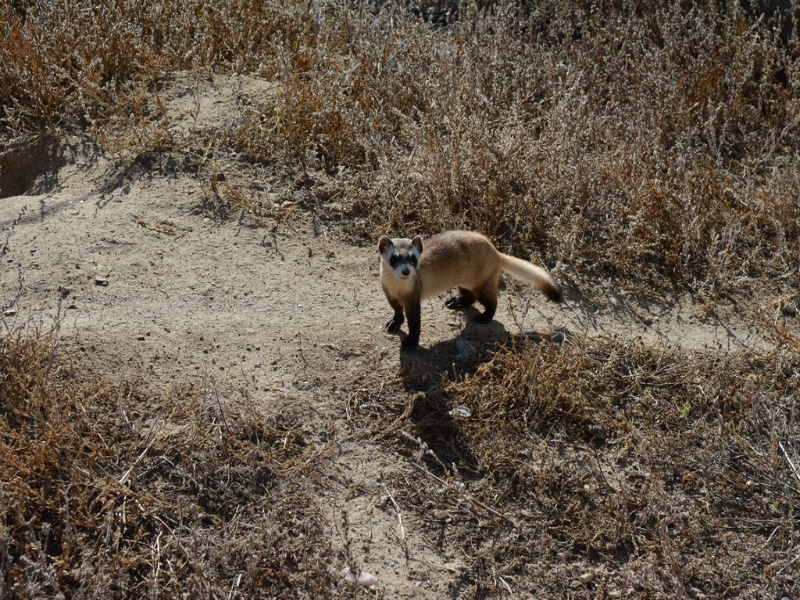minkish: (374, 230, 564, 348)
